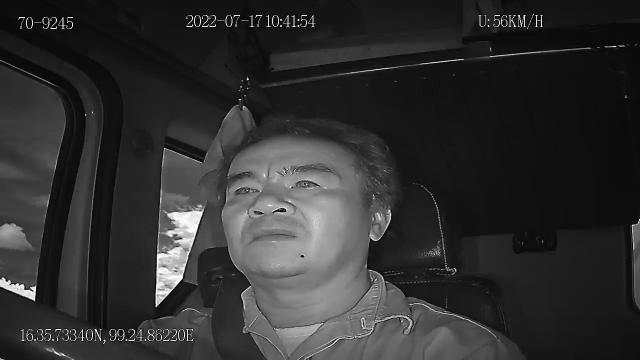SafeDriving: (281, 166, 331, 197), (225, 174, 264, 204)
Seatbelt: (210, 274, 270, 360)
